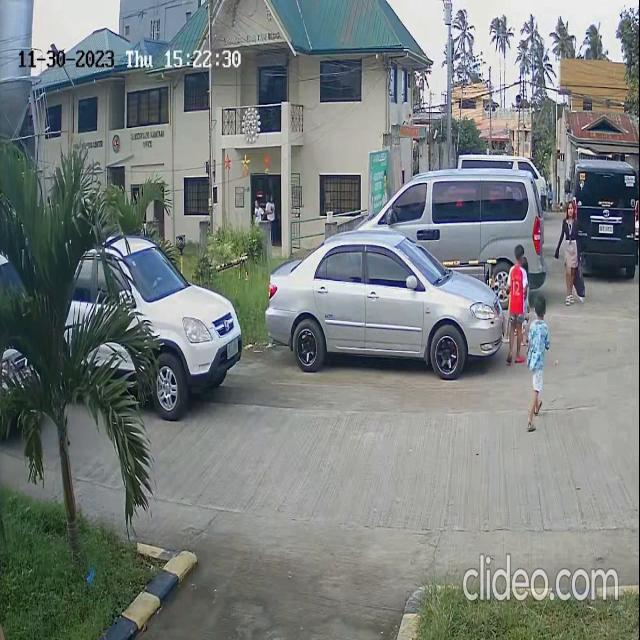person: (507, 236, 532, 337), (528, 299, 554, 382), (562, 198, 579, 284)
